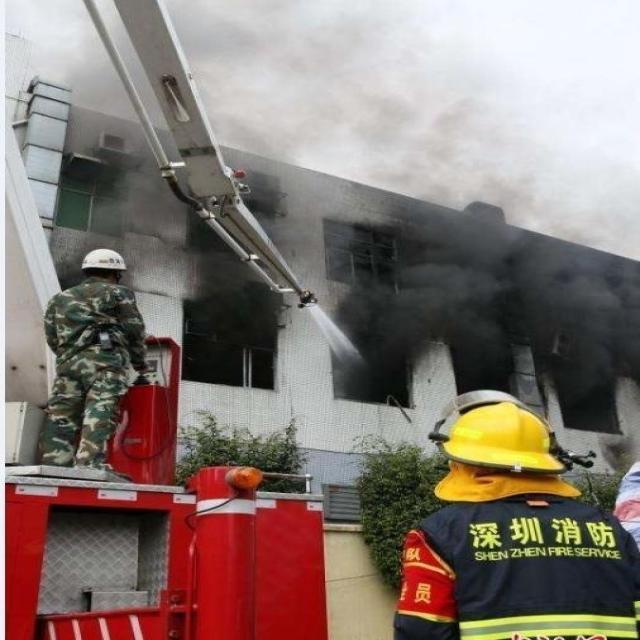Smoke: (90, 1, 640, 407)
